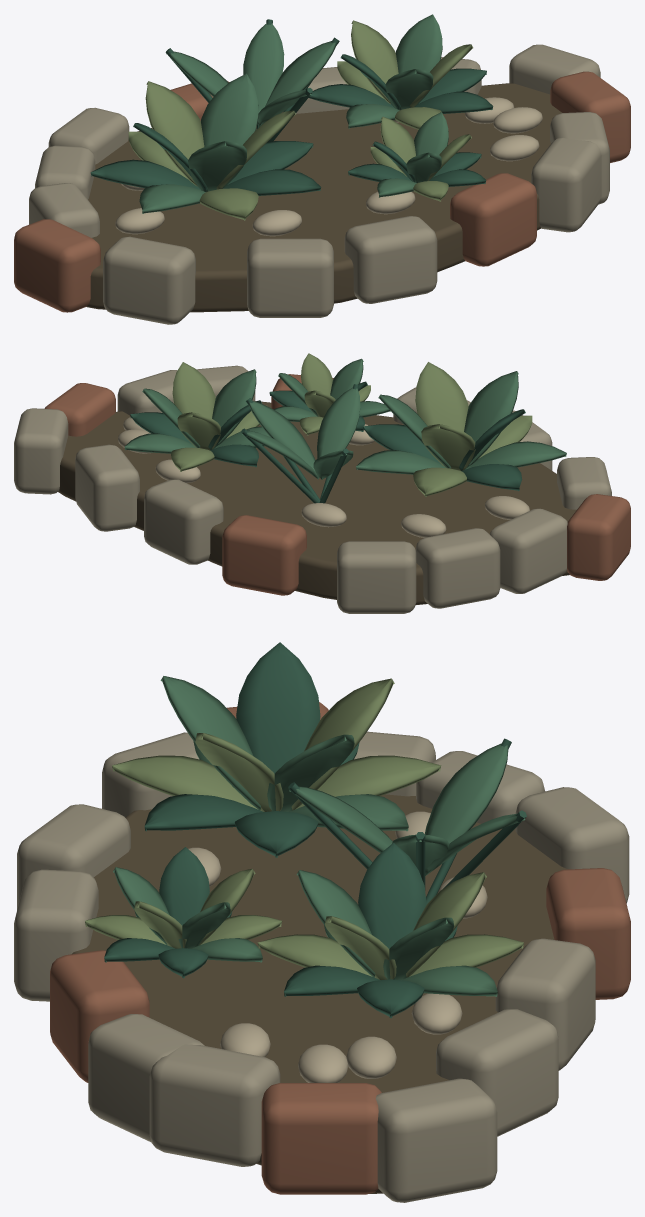
The model's file is living_garden_atelier.glb.
3 renders of one model, top to bottom at view 1: azimuth 30°, elevation 25°; view 2: azimuth 150°, elevation 25°; view 3: azimuth 270°, elevation 25°, orthographic. The views are drawn at different scales.
Visible parts, largest first — view 1: living_garden_atelier__TaggedPainted_living_garden_atelier_M; view 2: living_garden_atelier__TaggedPainted_living_garden_atelier_M; view 3: living_garden_atelier__TaggedPainted_living_garden_atelier_M.
Boxes of the visible parts, x1=… form: living_garden_atelier__TaggedPainted_living_garden_atelier_M: x1=14, y1=14, x2=630, y2=324; living_garden_atelier__TaggedPainted_living_garden_atelier_M: x1=14, y1=353, x2=630, y2=613; living_garden_atelier__TaggedPainted_living_garden_atelier_M: x1=14, y1=642, x2=630, y2=1202.
Size of the model in its own units: 2.37 by 0.5695 by 1.46.
